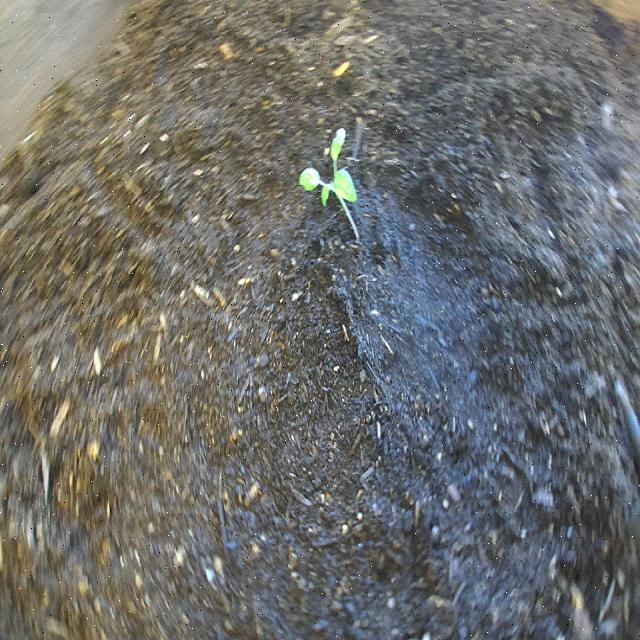Healthy: (295, 112, 370, 251)
